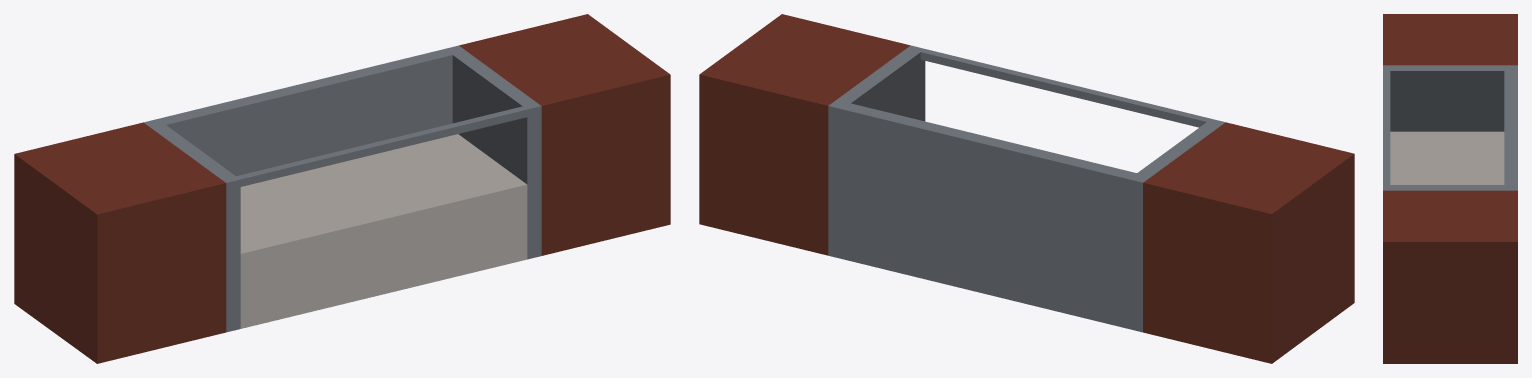
File: Counter7.glb
3 renders of one model, left to right at view 1: azimuth 30°, elevation 25°; view 2: azimuth 150°, elevation 25°; view 3: azimuth 270°, elevation 25°, orthographic. The views are drawn at different scales.
Visible parts, largest first — view 1: SI_Prop_Counter_10; view 2: SI_Prop_Counter_10; view 3: SI_Prop_Counter_10.
Boxes of the visible parts, x1,y1,x2,y2 form: SI_Prop_Counter_10: [14, 14, 670, 363]; SI_Prop_Counter_10: [699, 14, 1354, 363]; SI_Prop_Counter_10: [1383, 14, 1517, 363].
Bounding box in the file's own units: 0.0619 × 0.0155 × 0.0155.
1 material, 1 textured.
